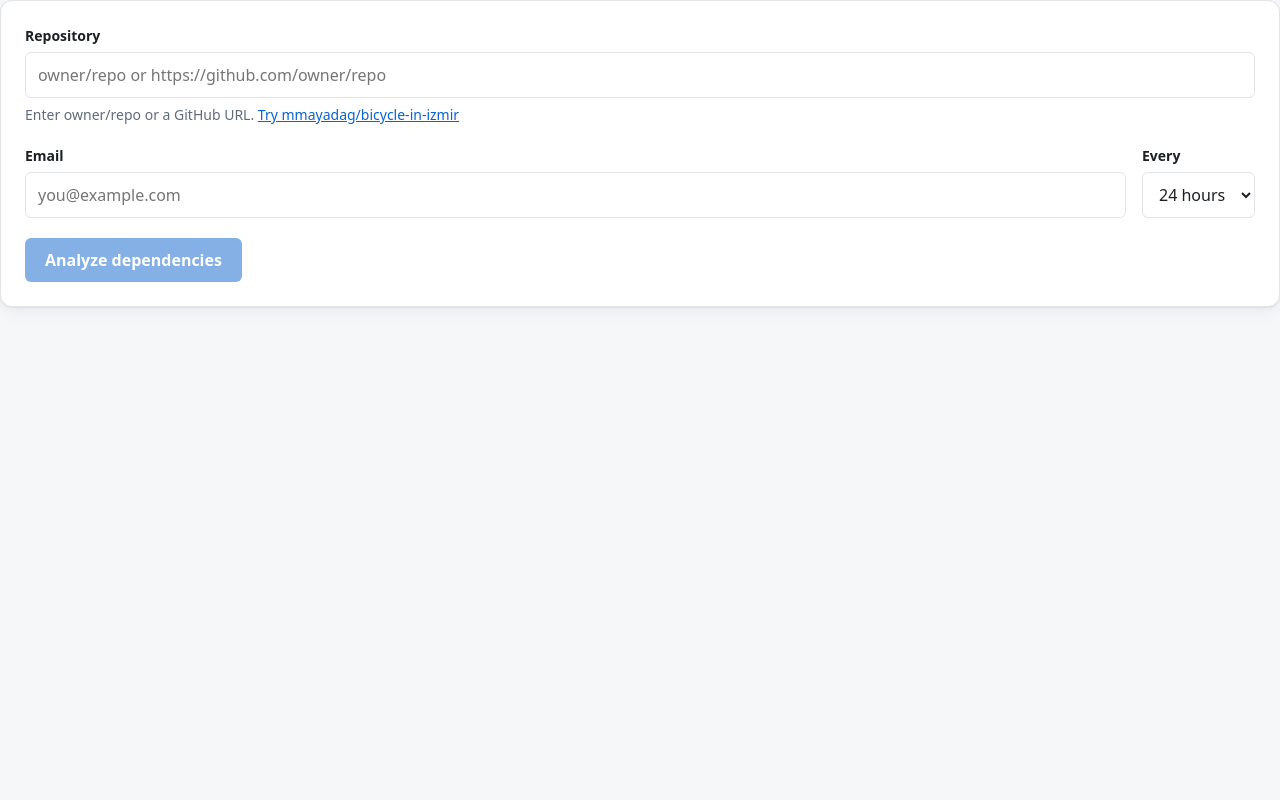
Test: RepositoryCheck › enables the button only with a valid repository and an email, then shows the report
In the field labelled "Repository": [640, 75] box [25, 52, 1255, 98], type "mmayadag/app"
Wait 300 ms
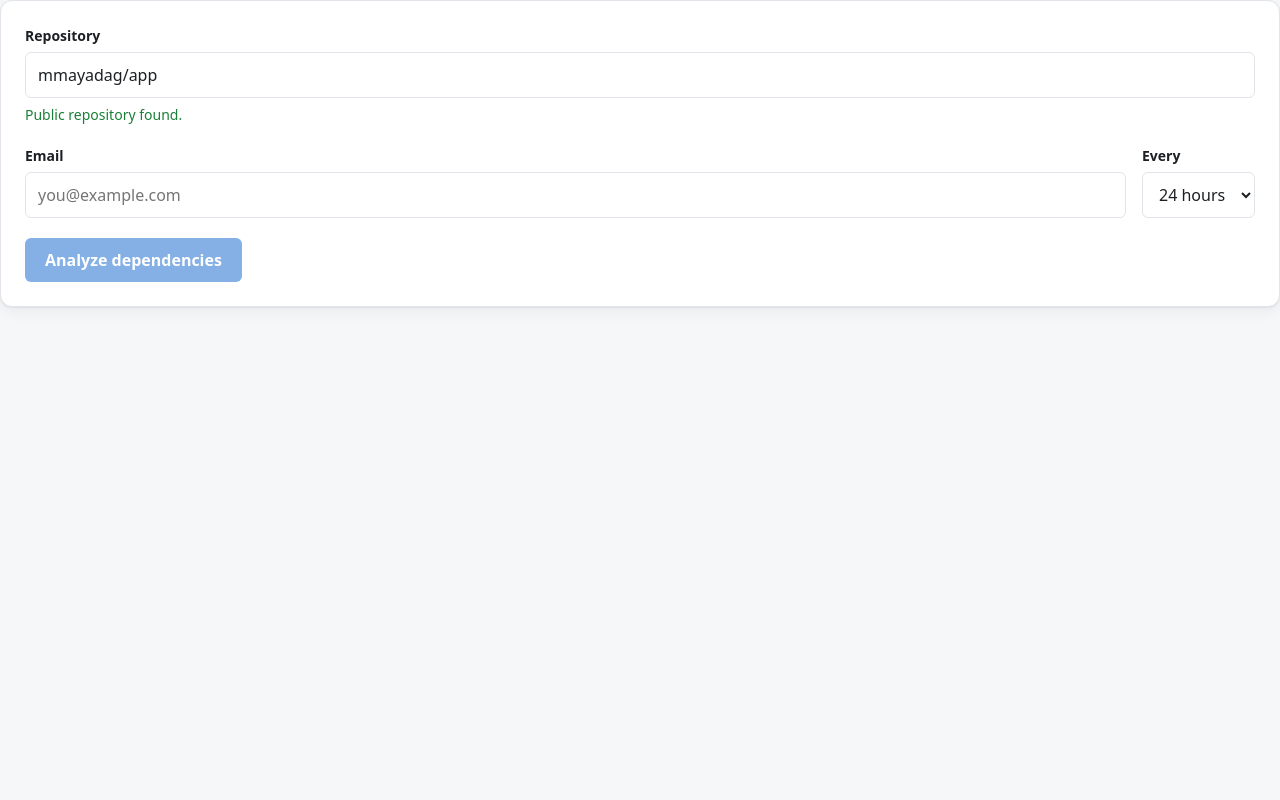
Expected: the button "Analyze dependencies" is disabled, [25, 238, 242, 282]
Result: the text "Public repository found." is shown at [25, 105, 182, 124]
In the field labelled "Email": [576, 195] box [25, 172, 1126, 218], type "dev@example.com"
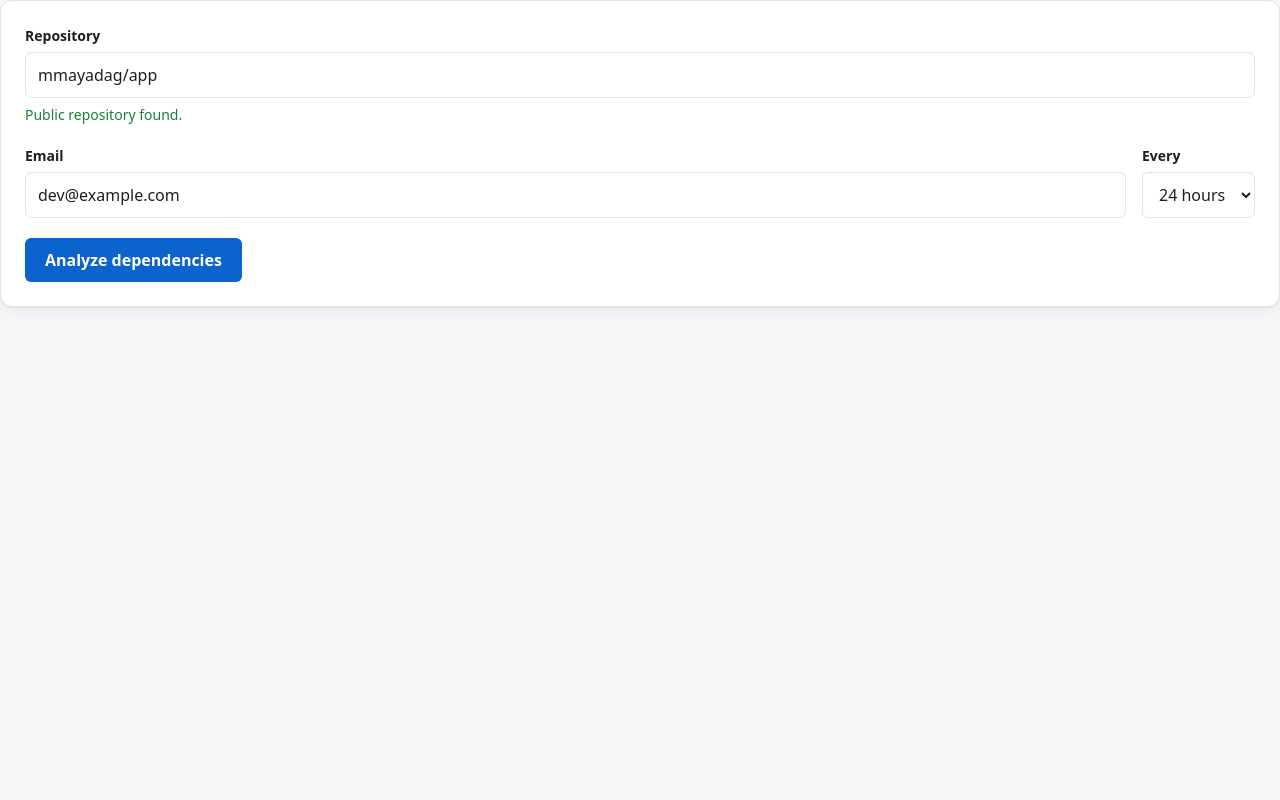
Result: the button "Analyze dependencies" is enabled
Click the button "Analyze dependencies": [133, 260] box [25, 238, 242, 282]
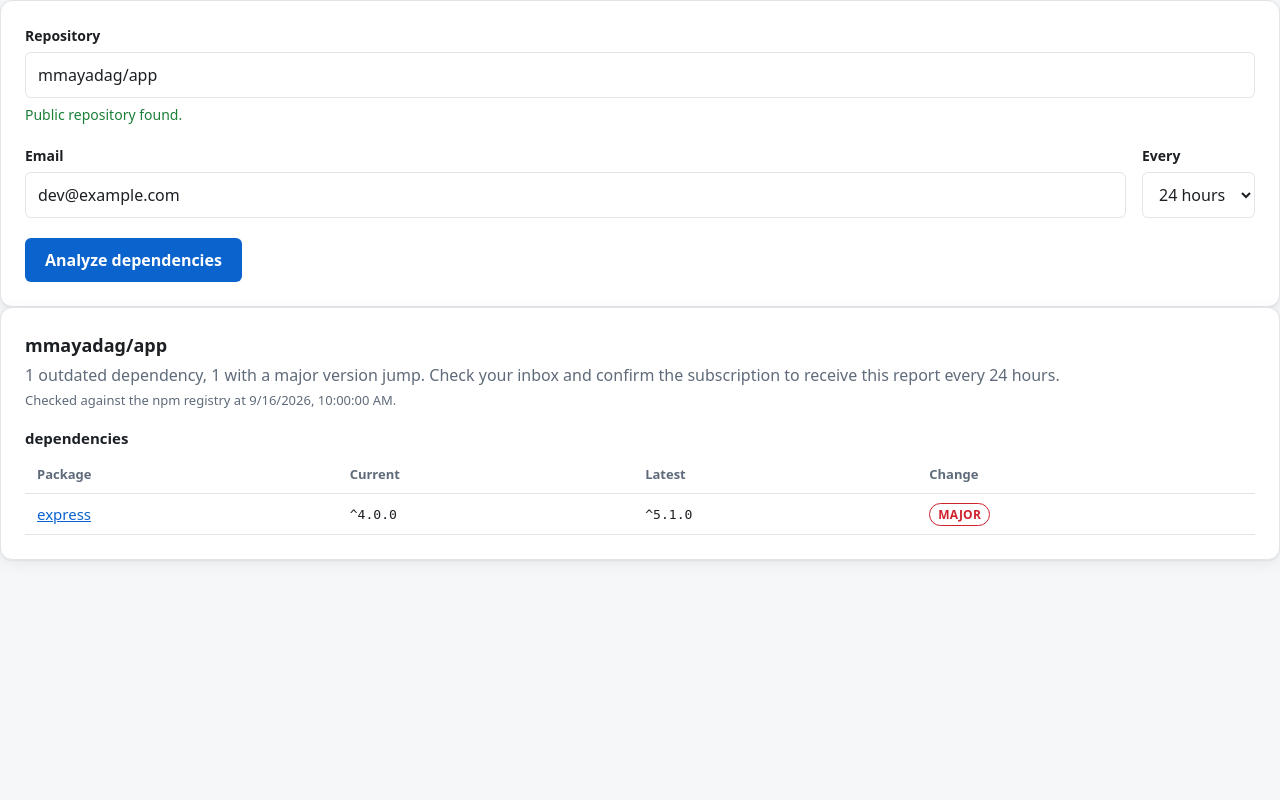
Result: the heading "mmayadag/app" is shown at [25, 333, 167, 357]
Result: the text "major" is shown at [929, 503, 990, 526]
